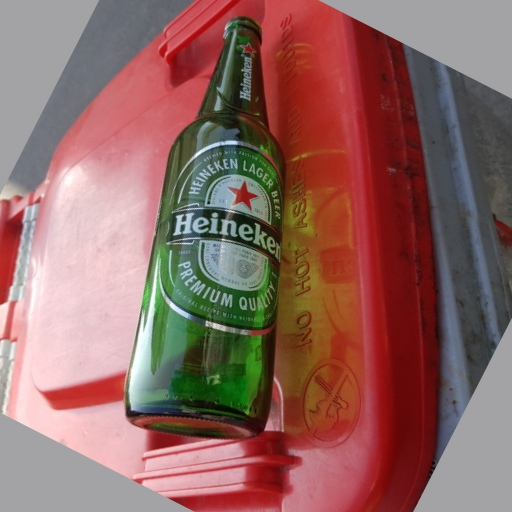Glass_1: (122, 18, 293, 446)
